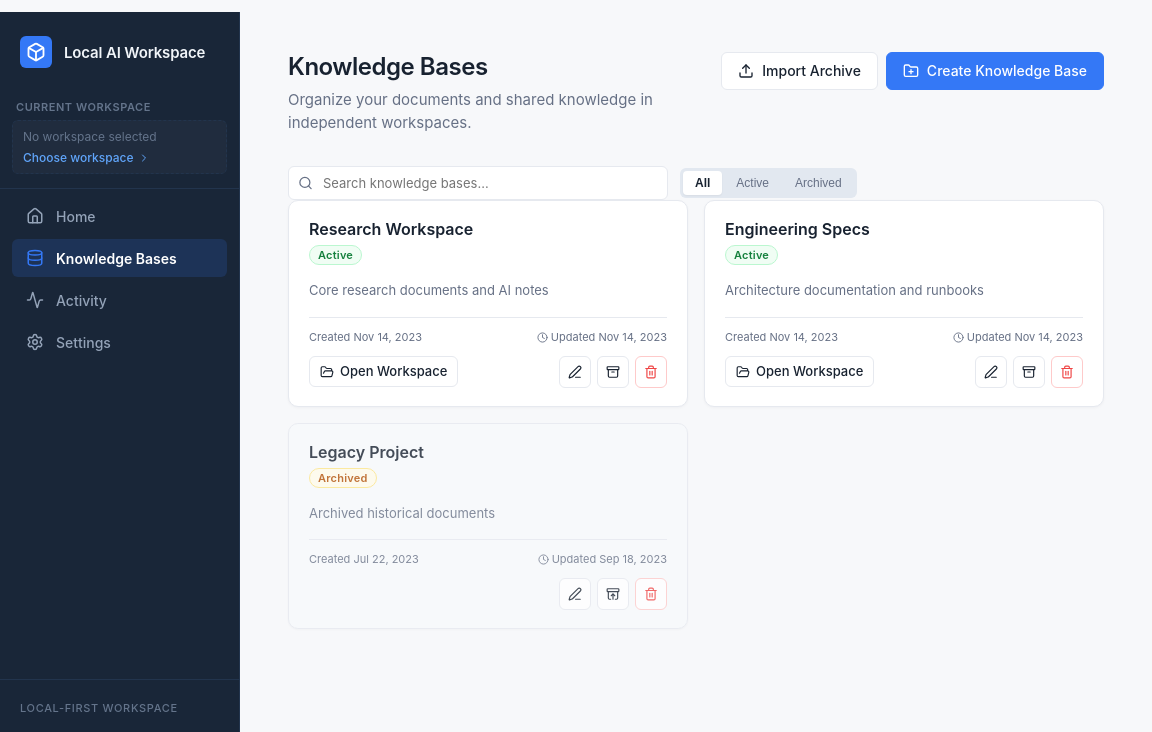
Test case: Renderer: Knowledge Base Workspace Shell & Navigation (Phase 4 Step 4.5) › 5. Dashboard Open Action › opens workspace when clicking Open Workspace button on dashboard card
Click the button "Open Workspace" below "Core research documents and AI notes" at (384, 372), box left=309, top=356, right=458, bottom=387
(page scrolled)
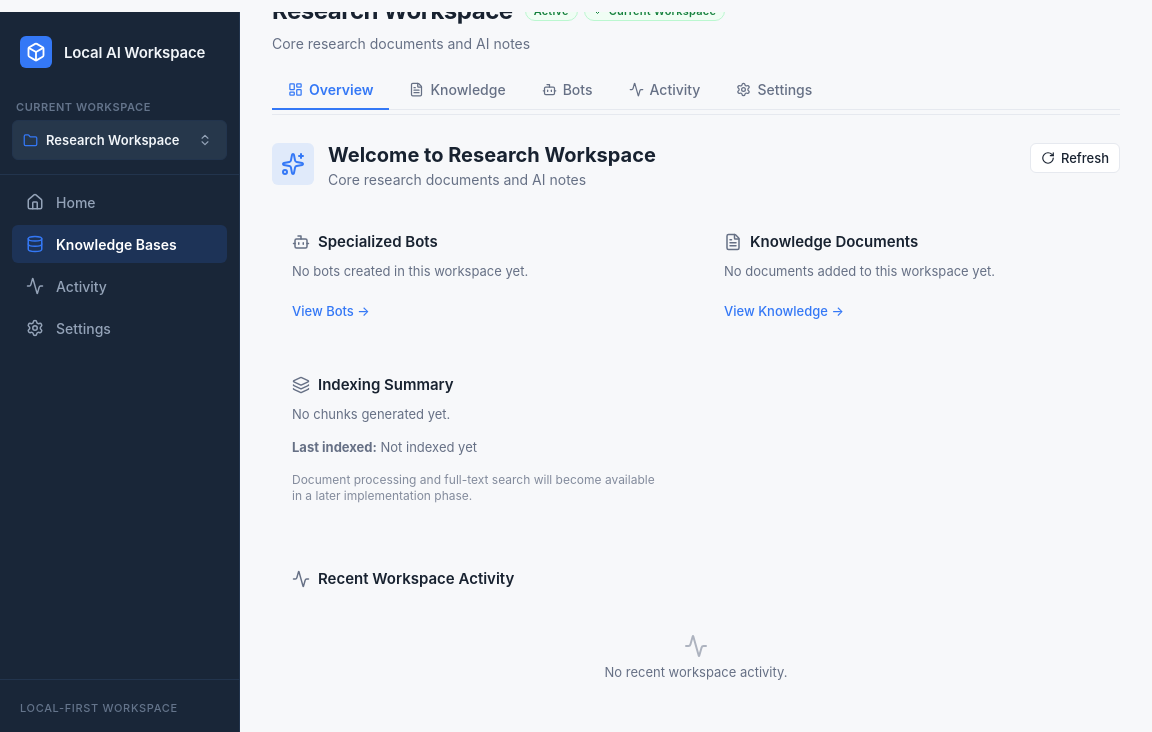
Result: the element with test id "workspace-overview-tab" is shown at left=272, top=143, right=1120, bottom=731
